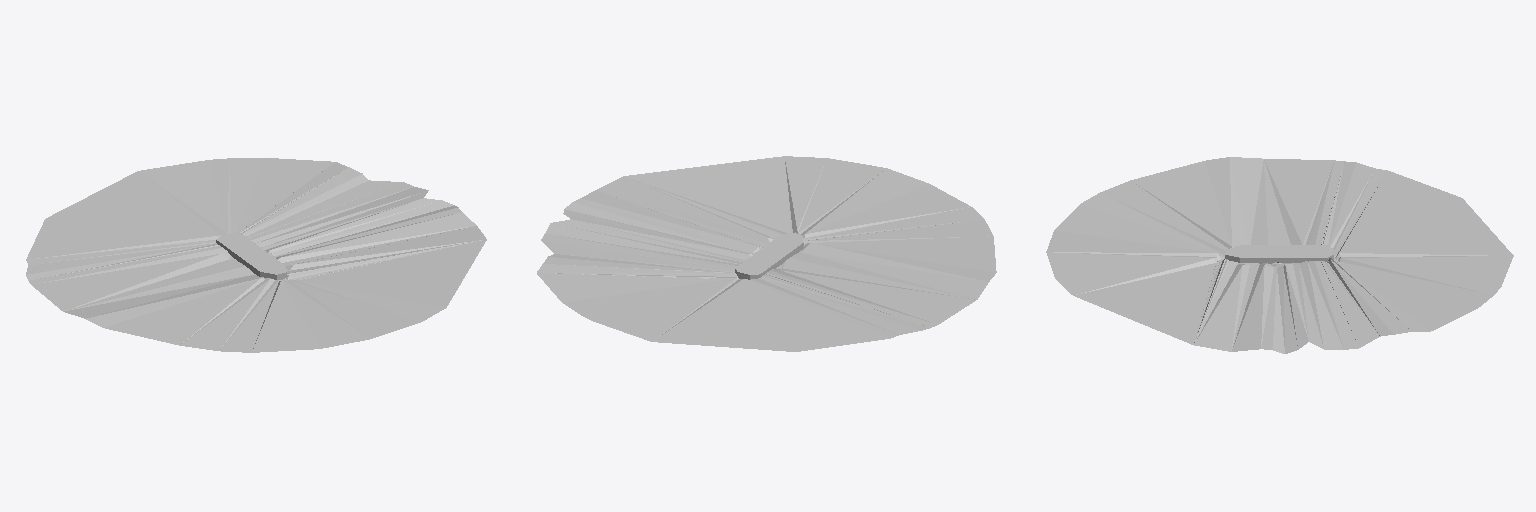
File: ENVO_Station.obj
3 renders of one model, left to right at view 1: azimuth 30°, elevation 25°; view 2: azimuth 150°, elevation 25°; view 3: azimuth 270°, elevation 25°, orthographic.
Visible parts, largest first — view 1: Station, StationCollisionBox; view 2: Station, StationCollisionBox; view 3: Station, StationCollisionBox.
Part boxes in pixels (x1,y1,x2,y2): Station: (26,158,486,352); StationCollisionBox: (216,233,286,279); Station: (537,156,996,351); StationCollisionBox: (735,232,803,279); Station: (1046,157,1513,353); StationCollisionBox: (1225,245,1333,263).
Size of the model in its own units: 21877 by 353 by 22028.